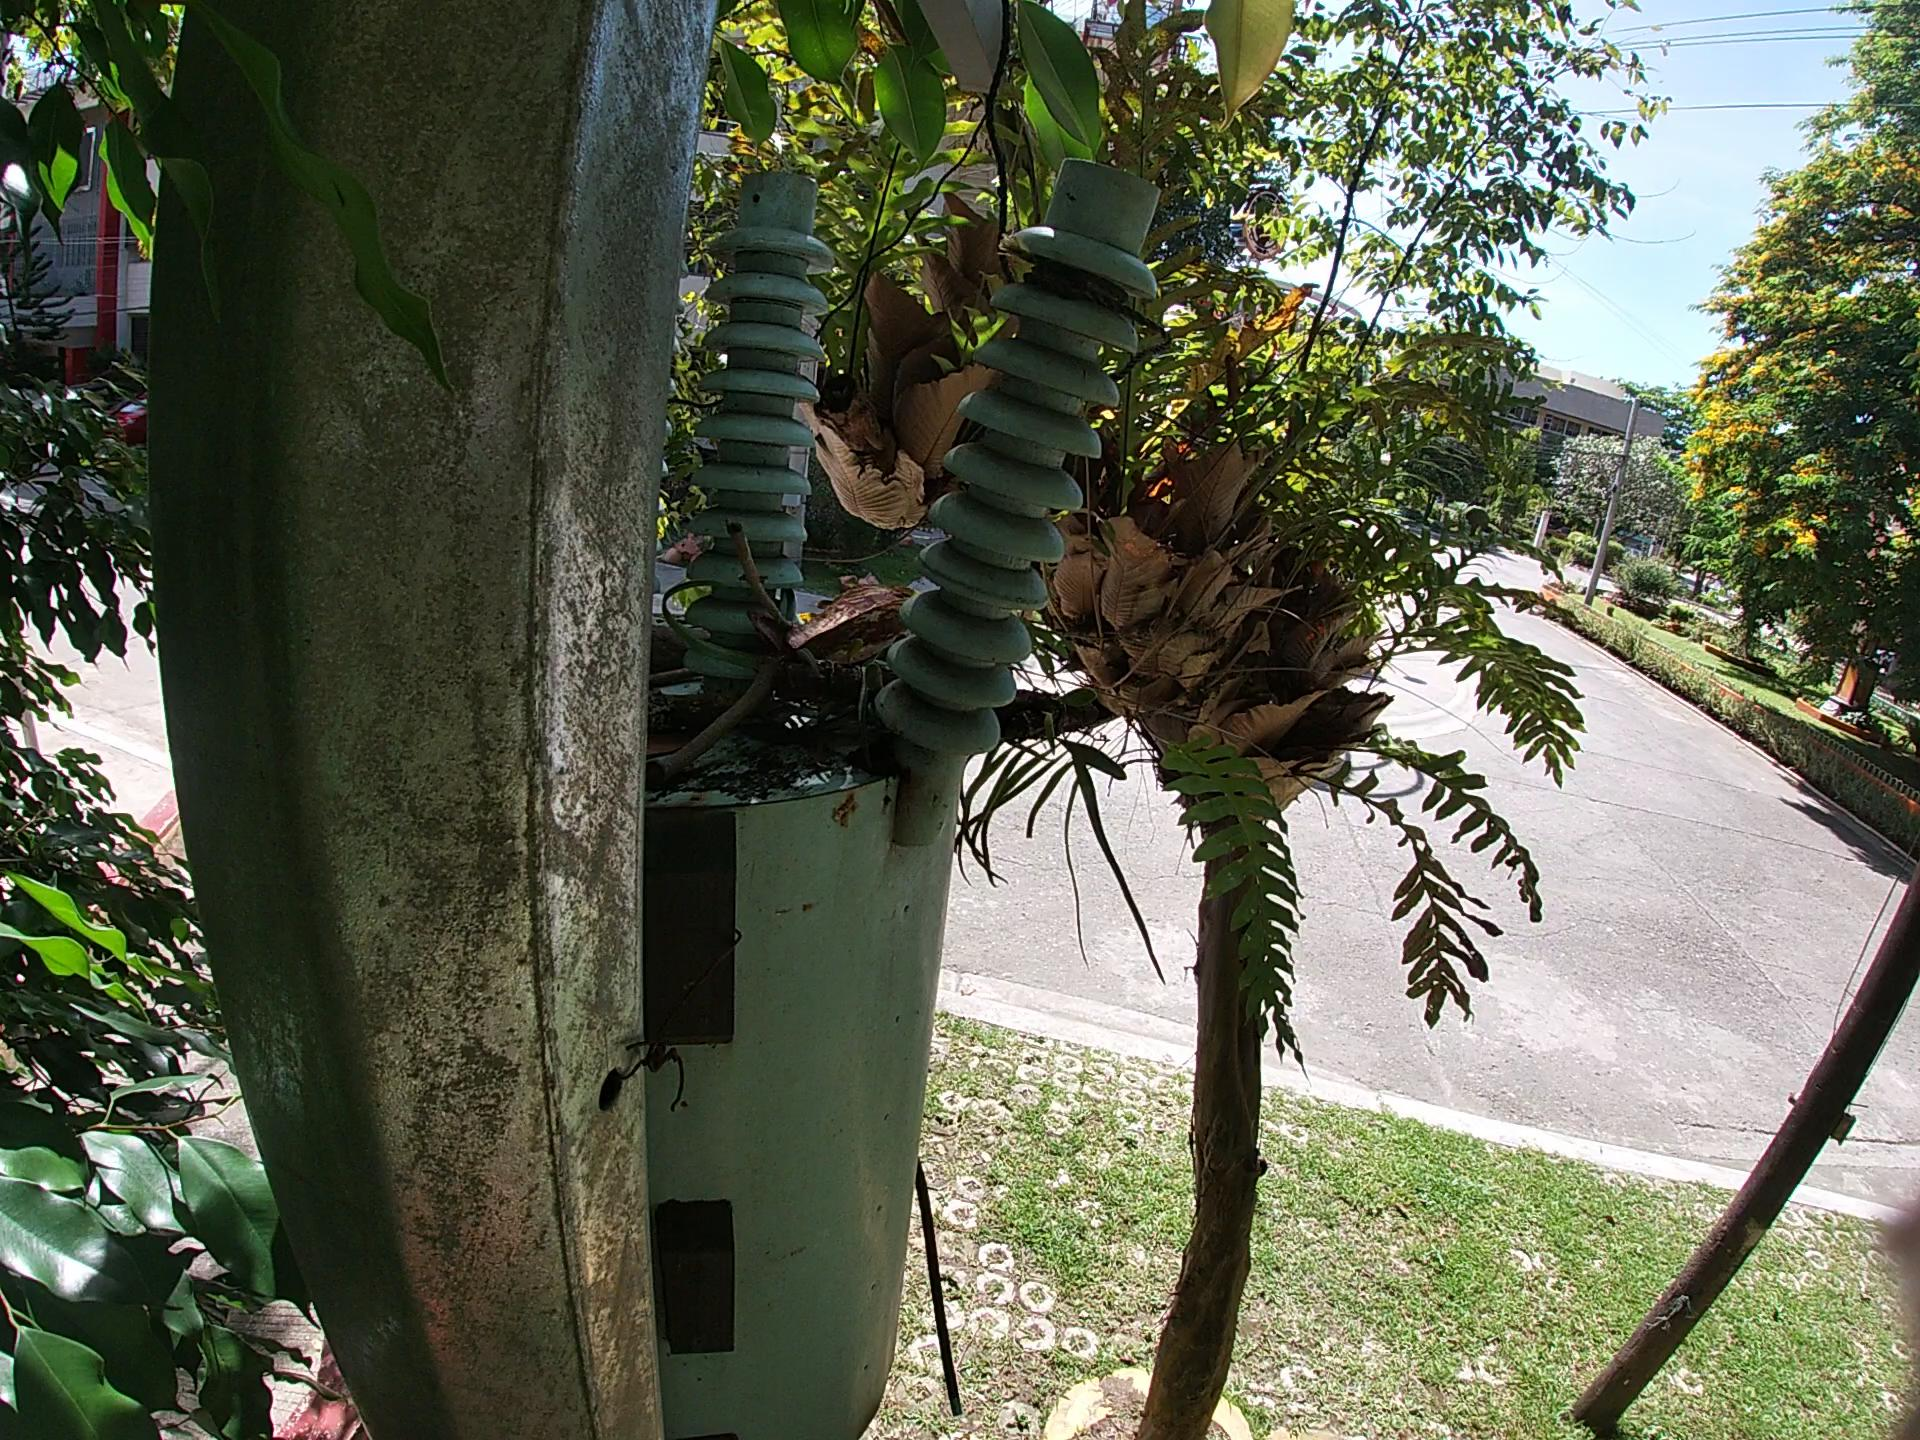branch with leaves: (730, 513, 1081, 781)
mahogany fruit: (748, 514, 874, 644), (750, 514, 763, 520), (751, 522, 763, 526)
tree branch: (519, 666, 785, 900)
